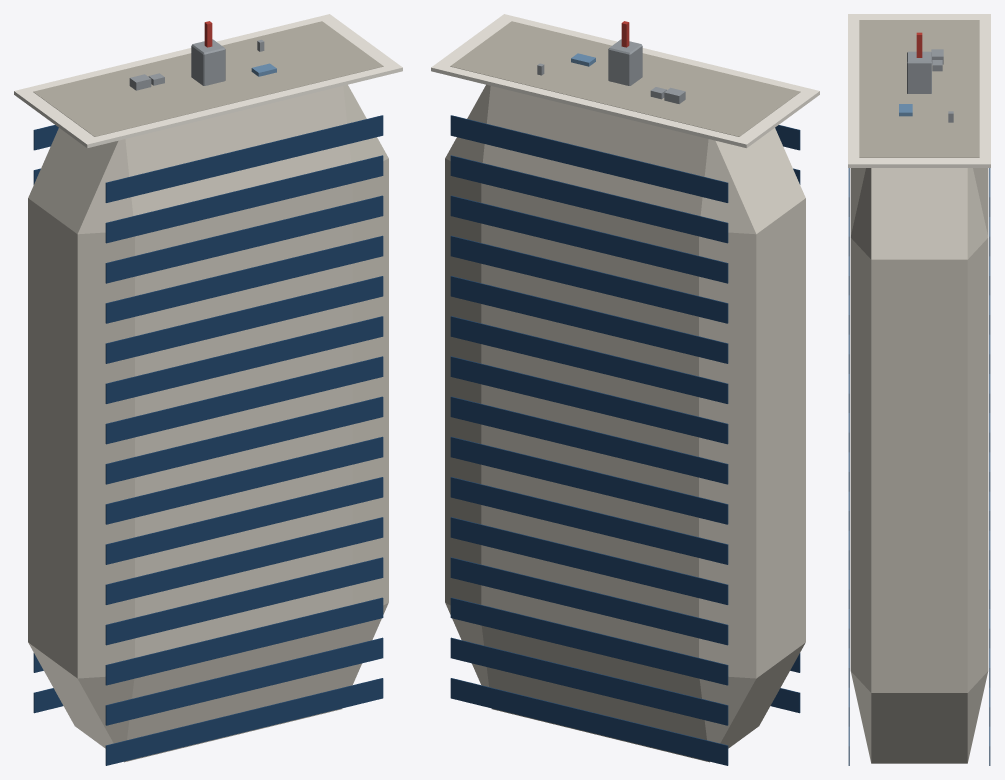
The model's file is tower_slab_h60.glb.
3 renders of one model, left to right at view 1: azimuth 30°, elevation 25°; view 2: azimuth 150°, elevation 25°; view 3: azimuth 270°, elevation 25°, orthographic. The views are drawn at different scales.
Parts seen in each view (by area): view 1: slab, slabroof, slablip, win.003, win.008, win.012, win.013, win.004, win.007, win.009, win, win.002 (+7 smaller); view 2: slab, slabroof, slablip, win.018, win.023, win.027, win.028, win.019, win.022, win.024, win.015, win.017 (+7 smaller); view 3: slab, slabroof, slablip, mast.
Part boxes in pixels (x1,y1,x2,y2): slab: (28, 84, 388, 762); slabroof: (33, 21, 383, 136); slablip: (14, 14, 402, 148); win.003: (105, 557, 383, 645); win.008: (105, 356, 383, 444); win.012: (105, 195, 383, 283); win.013: (105, 155, 383, 243); win.004: (105, 517, 383, 604); win.007: (105, 396, 383, 484); win.009: (105, 316, 383, 403); win: (105, 678, 383, 765); win.002: (105, 597, 383, 685); slab: (445, 84, 805, 762); slabroof: (450, 21, 800, 136); slablip: (431, 14, 819, 148); win.018: (450, 557, 728, 645); win.023: (450, 356, 728, 444); win.027: (450, 195, 728, 283); win.028: (450, 155, 728, 243); win.019: (450, 517, 728, 604); win.022: (450, 396, 728, 484); win.024: (450, 316, 728, 403); win.015: (450, 678, 728, 765); win.017: (450, 597, 728, 685); slab: (850, 168, 988, 763); slabroof: (859, 20, 979, 157); slablip: (848, 14, 990, 167); mast: (907, 51, 931, 93).
Size of the model in its own units: 31.24 by 65.7 by 12.54.
